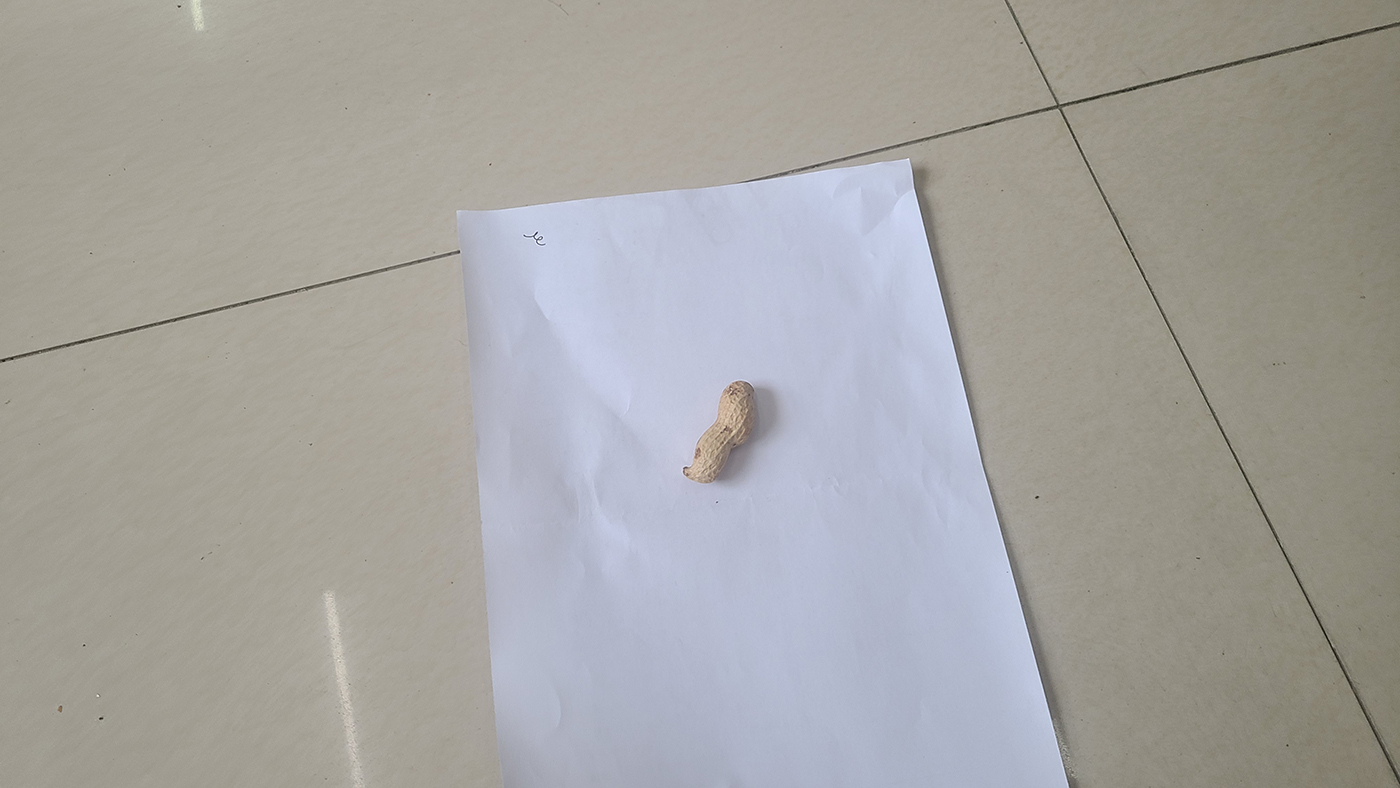h: (679, 381, 762, 481)
